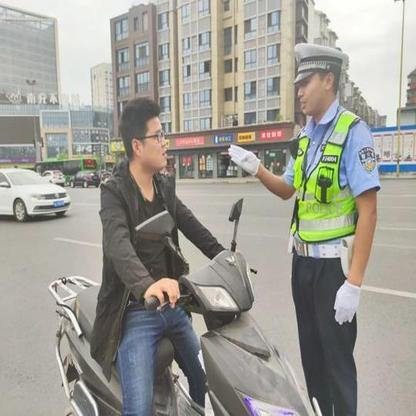target: (48, 97, 315, 414)
